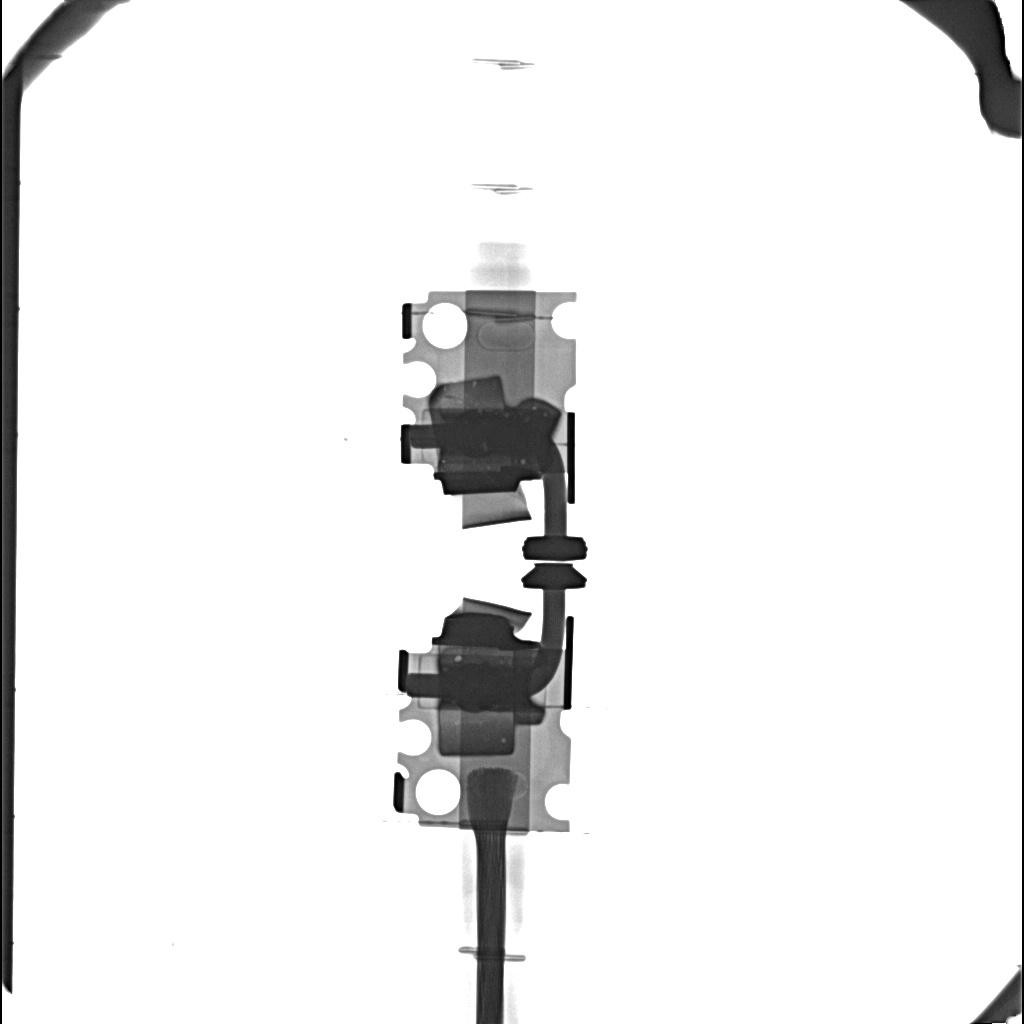PX: (429, 375, 507, 423), (437, 710, 516, 756)
QP: (453, 655, 462, 662)
SX: (437, 410, 552, 457), (441, 666, 526, 706)
